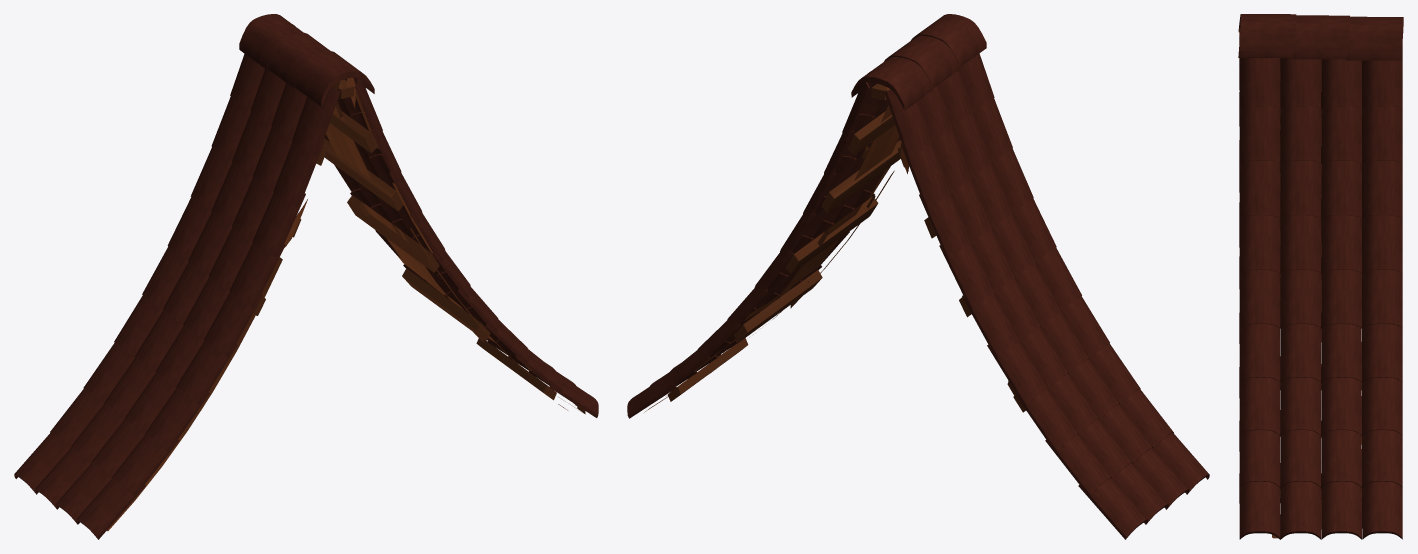
File: S_Roof_NoFrame_002.fbx
The picture shows the model from 3 angles, left to right: view 1: azimuth 30°, elevation 25°; view 2: azimuth 150°, elevation 25°; view 3: azimuth 270°, elevation 25°; orthographic projection.
Parts seen in each view (by area): view 1: s roof mesh for normals.402, Cube.127, S_Roof_NoFrame.002; view 2: s roof mesh for normals.402, Cube.127, S_Roof_NoFrame.002; view 3: s roof mesh for normals.402, S_Roof_NoFrame.002.
Boxes of the visible parts, x1=… form: s roof mesh for normals.402: x1=14, y1=14, x2=598, y2=539; Cube.127: x1=253, y1=79, x2=556, y2=400; S_Roof_NoFrame.002: x1=107, y1=77, x2=585, y2=531; s roof mesh for normals.402: x1=627, y1=14, x2=1209, y2=539; Cube.127: x1=667, y1=83, x2=1025, y2=412; S_Roof_NoFrame.002: x1=644, y1=87, x2=1015, y2=412; s roof mesh for normals.402: x1=1238, y1=14, x2=1403, y2=539; S_Roof_NoFrame.002: x1=1272, y1=58, x2=1361, y2=538.
Bounding box in the file's own units: 765 × 585 × 216.
